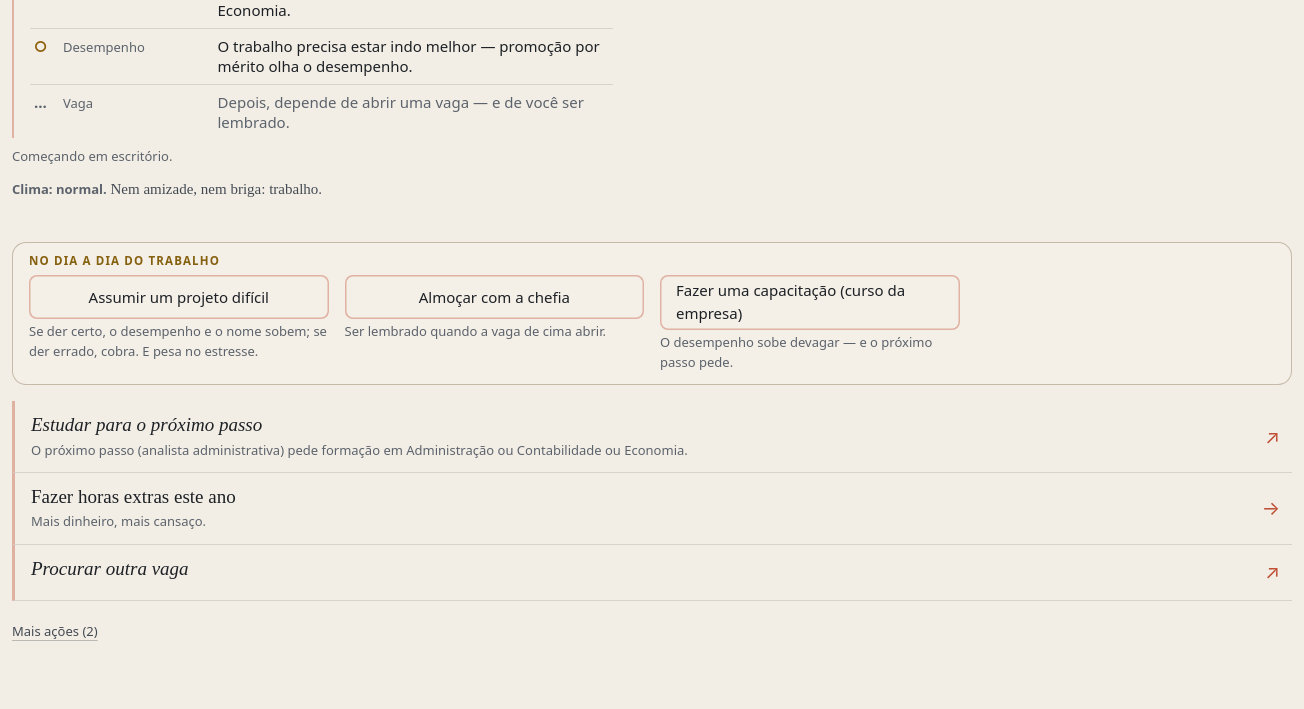
it: trabalho e formação: verbos de dentro › Trabalho mostra "No dia a dia do trabalho"; o clique executa (uma vez por ano)
(page scrolled)
Check: the heading "No dia a dia do trabalho" is shown, box [29,252,220,268]
Click the button "Almoçar com a chefia" at (494, 297), box [344,275,644,319]
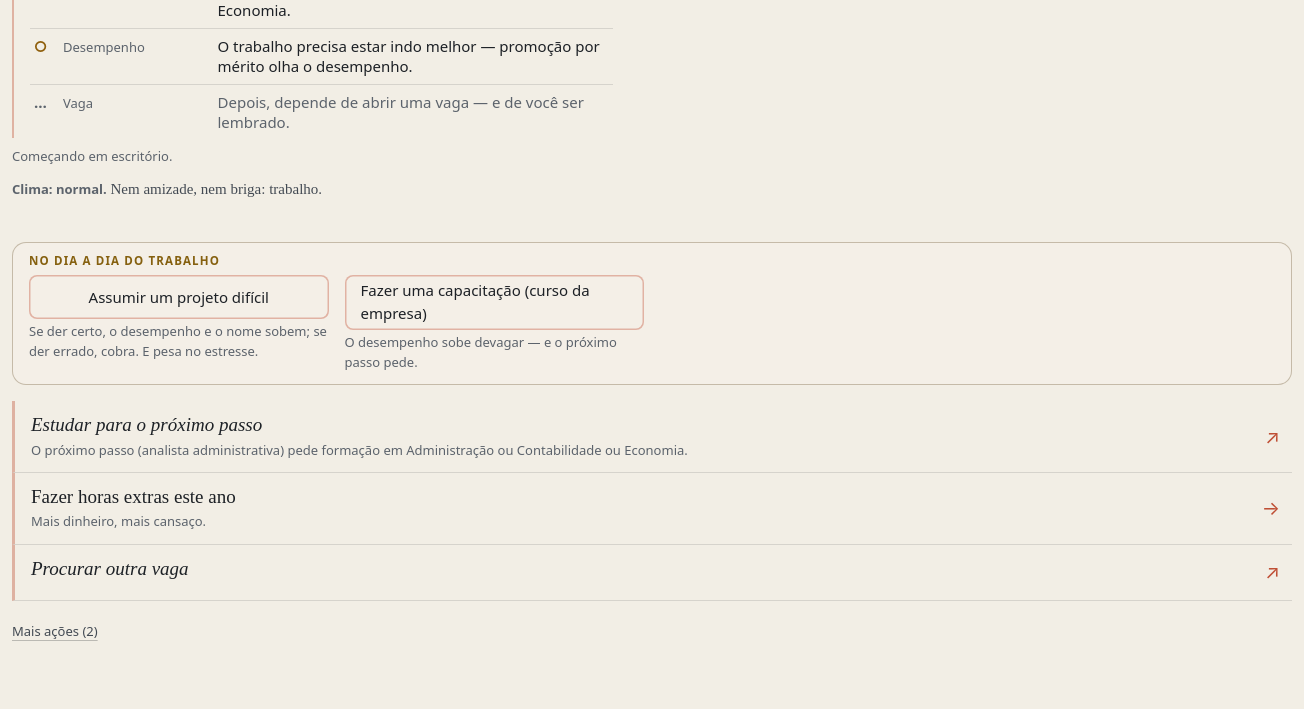
Check: the button "Almoçar com a chefia" is gone
